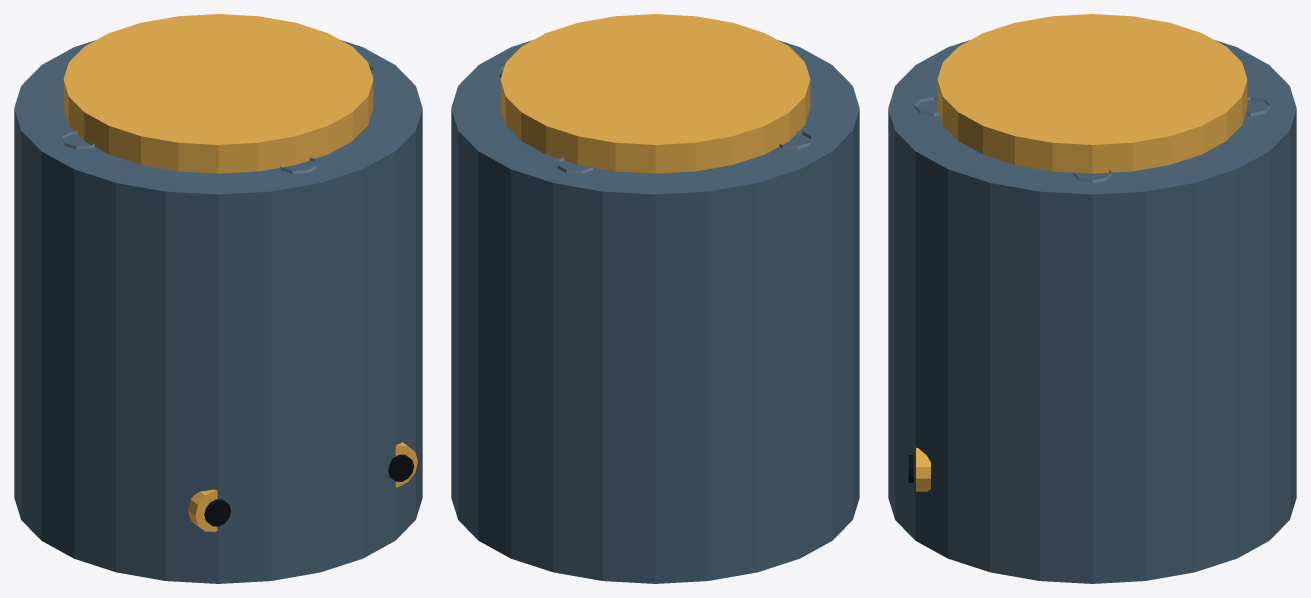
The model's file is 72_L92_CoreSealCompressionMechanism.fbx.
3 renders of one model, left to right at view 1: azimuth 30°, elevation 25°; view 2: azimuth 150°, elevation 25°; view 3: azimuth 270°, elevation 25°, orthographic.
Visible parts, largest first — view 1: L92_CoreSealCompressionMechanism_Part_0000, L92_CoreSealCompressionMechanism_Part_0001, L92_CoreSealCompressionMechanism_Part_0003, L92_CoreSealCompressionMechanism_Part_0004, L92_CoreSealCompressionMechanism_Part_0010; view 2: L92_CoreSealCompressionMechanism_Part_0000, L92_CoreSealCompressionMechanism_Part_0001; view 3: L92_CoreSealCompressionMechanism_Part_0000, L92_CoreSealCompressionMechanism_Part_0001, L92_CoreSealCompressionMechanism_Part_0009, L92_CoreSealCompressionMechanism_Part_0002.
Boxes of the visible parts, x1,y1,x2,y2 form: L92_CoreSealCompressionMechanism_Part_0000: (14,40,422,583); L92_CoreSealCompressionMechanism_Part_0001: (63,14,373,173); L92_CoreSealCompressionMechanism_Part_0003: (188,489,217,531); L92_CoreSealCompressionMechanism_Part_0004: (204,499,230,526); L92_CoreSealCompressionMechanism_Part_0010: (388,454,413,481); L92_CoreSealCompressionMechanism_Part_0000: (451,40,859,583); L92_CoreSealCompressionMechanism_Part_0001: (500,14,810,173); L92_CoreSealCompressionMechanism_Part_0000: (888,40,1296,583); L92_CoreSealCompressionMechanism_Part_0001: (937,14,1247,173); L92_CoreSealCompressionMechanism_Part_0009: (916,447,930,491); L92_CoreSealCompressionMechanism_Part_0002: (914,97,1270,183).
Bounding box in the file's own units: 116 × 131 × 116.
